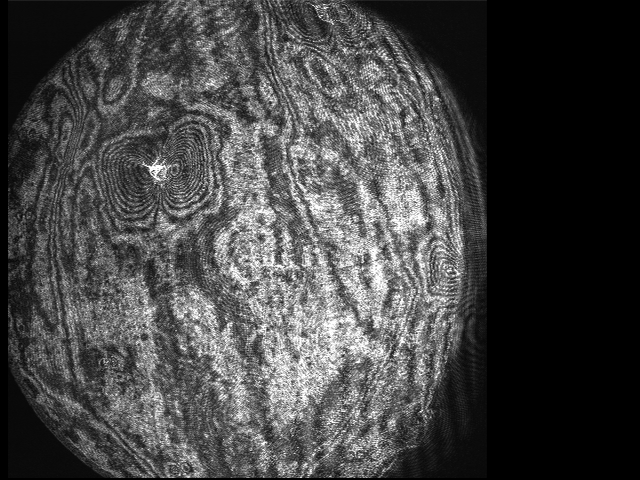plume: (100, 128, 220, 239)
